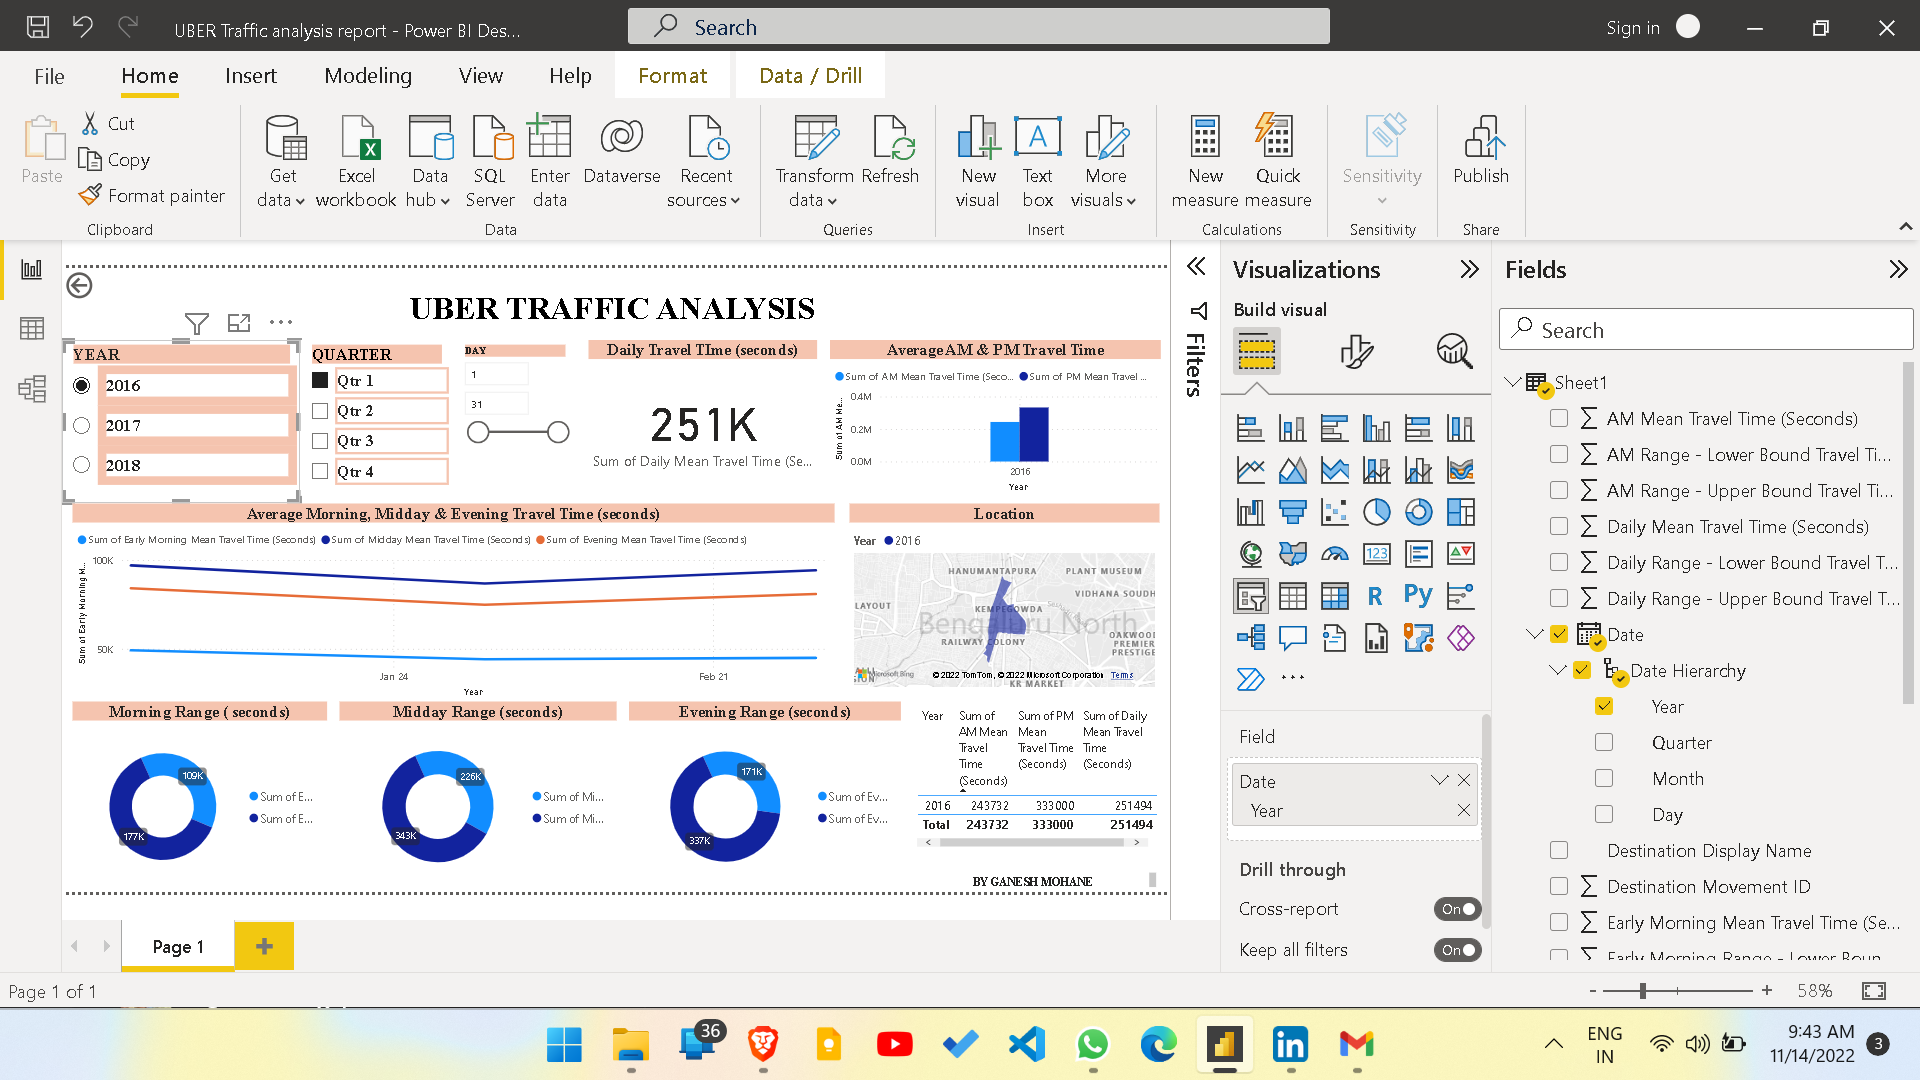

The dashboard page shown, as its layout file describes it:
{"tool":"powerbi","page":{"name":"Page 1","canvas":[1280,720],"ordinal":0},"visuals":[{"type":"textbox","box":[0,19.4,1279.8,64.7],"z":0},{"type":"lineClusteredColumnComboChart","title":"Average AM & PM Travel Time","fields":{"Category":["Sheet1.Date.Variation.Date Hierarchy.Year"],"Y":["Sum(Sheet1.AM Mean Travel Time (Seconds))","Sum(Sheet1.PM Mean Travel Time (Seconds))"]},"box":[886,84,382,180],"z":1000},{"type":"actionButton","box":[0,0,100,40],"z":2000},{"type":"slicer","fields":{"Values":["Sheet1.Date.Variation.Date Hierarchy.Year"]},"box":[0,84,276,188],"z":4000},{"type":"lineChart","title":"Average Morning, Midday & Evening Travel Time (seconds)","fields":{"Category":["Sheet1.Date.Variation.Date Hierarchy.Year","Sheet1.Date.Variation.Date Hierarchy.Month"],"Y":["Sum(Sheet1.Early Morning Mean Travel Time (Seconds))","Sum(Sheet1.Midday Mean Travel Time (Seconds))","Sum(Sheet1.Evening Mean Travel Time (Seconds))"]},"box":[12,272,880,228],"z":5000},{"type":"filledMap","title":"Location","fields":{"Category":["Sheet1.Origin Display Name"],"Series":["Sheet1.Date.Variation.Date Hierarchy.Year"]},"box":[910,272,358,216],"z":6000},{"type":"tableEx","fields":{"Values":["Sheet1.Date.Variation.Date Hierarchy.Year","Sum(Sheet1.AM Mean Travel Time (Seconds))","Sum(Sheet1.PM Mean Travel Time (Seconds))","Sum(Sheet1.Daily Mean Travel Time (Seconds))"]},"box":[982,500,286,172],"z":7000},{"type":"donutChart","title":"Morning Range ( seconds)","fields":{"Y":["Sum(Sheet1.Early Morning Range - Lower Bound Travel Time (Seconds))","Sum(Sheet1.Early Morning Range - Upper Bound Travel Time (Seconds))"]},"box":[12,500,294,220],"z":8000},{"type":"donutChart","title":"Midday Range (seconds) ","fields":{"Y":["Sum(Sheet1.Midday Range - Lower Bound Travel Time (Seconds))","Sum(Sheet1.Midday Range - Upper Bound Travel Time (Seconds))"]},"box":[320,500,320,220],"z":9000},{"type":"donutChart","title":"Evening Range (seconds)","fields":{"Y":["Sum(Sheet1.Evening Range - Lower Bound Travel Time (Seconds))","Sum(Sheet1.Evening Range - Upper Bound Travel Time (Seconds))"]},"box":[654,500,314,220],"z":10000},{"type":"textbox","box":[982,692,286,28],"z":11000},{"type":"card","title":"Daily Travel TIme (seconds)","fields":{"Values":["Sum(Sheet1.Daily Mean Travel Time (Seconds))"]},"box":[608,84,264,180],"z":12000},{"type":"slicer","fields":{"Values":["Sheet1.Date.Variation.Date Hierarchy.Quarter"]},"box":[276,84,176,180],"z":12001},{"type":"slicer","fields":{"Values":["Sheet1.Date.Variation.Date Hierarchy.Day"]},"box":[452,84,142,180],"z":12002}]}

Visuals, with their boxes on the page's 1280x720 design canvas (x1, y1, x2, y2). These are canvas units, not pixel positions in the 1920x1080 screenshot, which may show the page scaled, cropped or inside an application window:
textbox: {"left": 0, "top": 19, "right": 1280, "bottom": 84}
"Average AM & PM Travel Time" lineClusteredColumnComboChart: {"left": 886, "top": 84, "right": 1268, "bottom": 264}
actionButton: {"left": 0, "top": 0, "right": 100, "bottom": 40}
slicer - Sheet1.Date.Variation.Date Hierarchy.Year: {"left": 0, "top": 84, "right": 276, "bottom": 272}
"Average Morning, Midday & Evening Travel Time (seconds)" lineChart: {"left": 12, "top": 272, "right": 892, "bottom": 500}
"Location" filledMap: {"left": 910, "top": 272, "right": 1268, "bottom": 488}
tableEx - Sheet1.Date.Variation.Date Hierarchy.Year x Sum(Sheet1.AM Mean Travel Time (Seconds)): {"left": 982, "top": 500, "right": 1268, "bottom": 672}
"Morning Range ( seconds)" donutChart: {"left": 12, "top": 500, "right": 306, "bottom": 720}
"Midday Range (seconds) " donutChart: {"left": 320, "top": 500, "right": 640, "bottom": 720}
"Evening Range (seconds)" donutChart: {"left": 654, "top": 500, "right": 968, "bottom": 720}
textbox: {"left": 982, "top": 692, "right": 1268, "bottom": 720}
"Daily Travel TIme (seconds)" card: {"left": 608, "top": 84, "right": 872, "bottom": 264}
slicer - Sheet1.Date.Variation.Date Hierarchy.Quarter: {"left": 276, "top": 84, "right": 452, "bottom": 264}
slicer - Sheet1.Date.Variation.Date Hierarchy.Day: {"left": 452, "top": 84, "right": 594, "bottom": 264}
